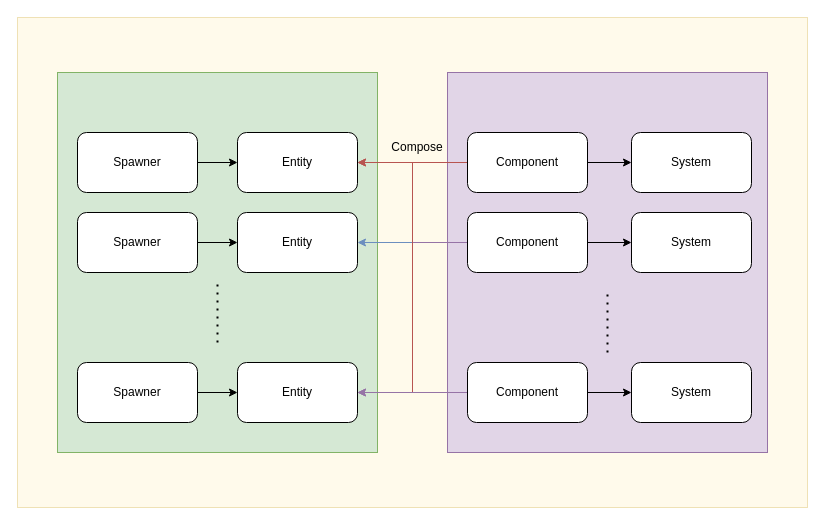
This 825x525 diagram has some shape labels left out. Here are the shapes that lost their labels. From the top down, the box of each, then its label:
(56, 72, 378, 452): Builder
(446, 72, 768, 452): Function
